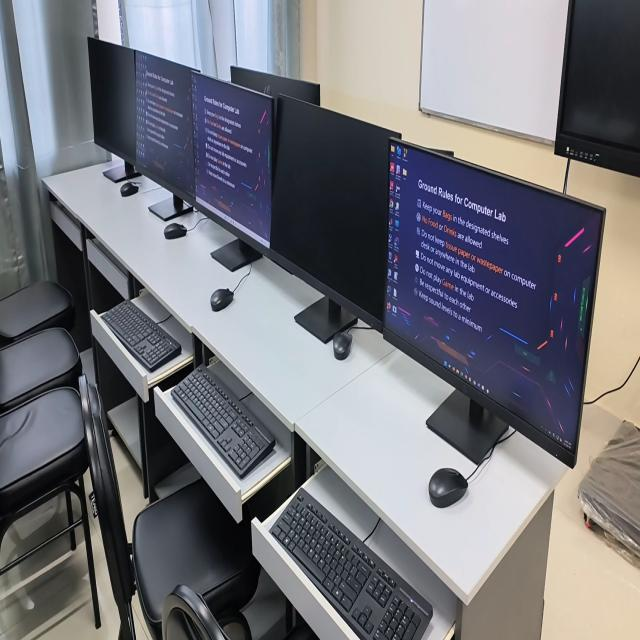Chair: (79, 376, 261, 639), (0, 387, 101, 628), (0, 328, 82, 414), (0, 281, 75, 347), (162, 584, 230, 639)
Digital board: (554, 0, 640, 177)
Keyboard: (269, 487, 433, 639), (171, 367, 274, 478), (101, 301, 181, 372)
Monitor: (383, 139, 604, 461), (268, 95, 396, 331), (192, 74, 272, 247), (136, 51, 198, 195), (88, 38, 136, 164), (231, 66, 320, 105)
Mouse: (428, 468, 468, 508), (333, 332, 352, 360), (210, 288, 233, 311), (164, 223, 187, 239), (120, 182, 138, 196)
